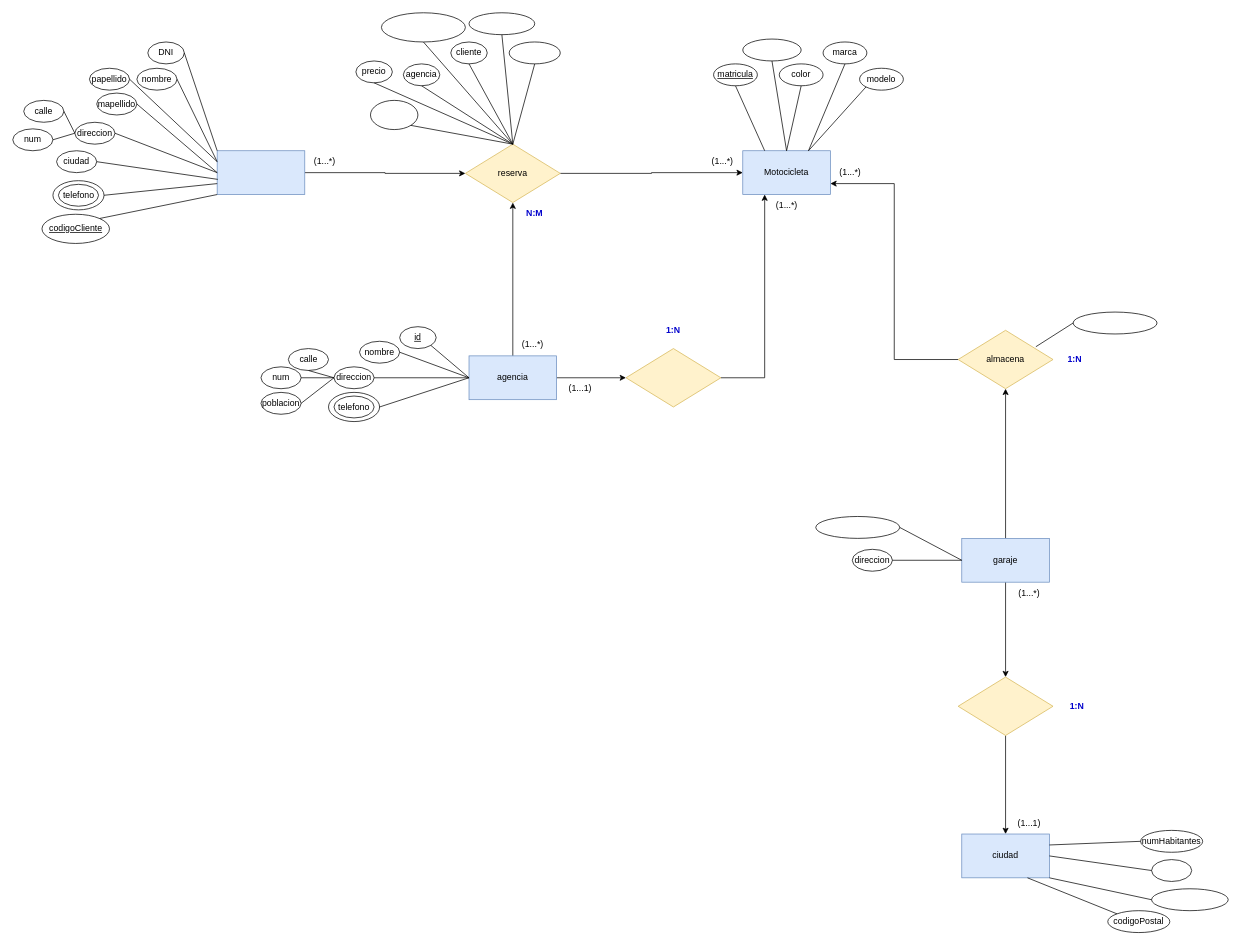
Some shapes in this 1241 by 945 pixel diagram are drawn without their labels. Here are the shapes that lost their labels. From the top down, the centre of each, then its label:
At [423,27]: "fechaReservacion".
At [501,23]: "motoAlquilada".
At [534,52]: "fechaFin".
At [771,49]: "numBastidor".
At [394,115]: "fechaInicio".
At [260,172]: "Clientes".
At [1114,322]: "fechaIngreso".
At [673,377]: "adquiere".
At [857,527]: "nombreGaraje".
At [1005,705]: "pertenece".
At [1171,870]: "provincia".
At [1189,899]: "nombreCiudad".
